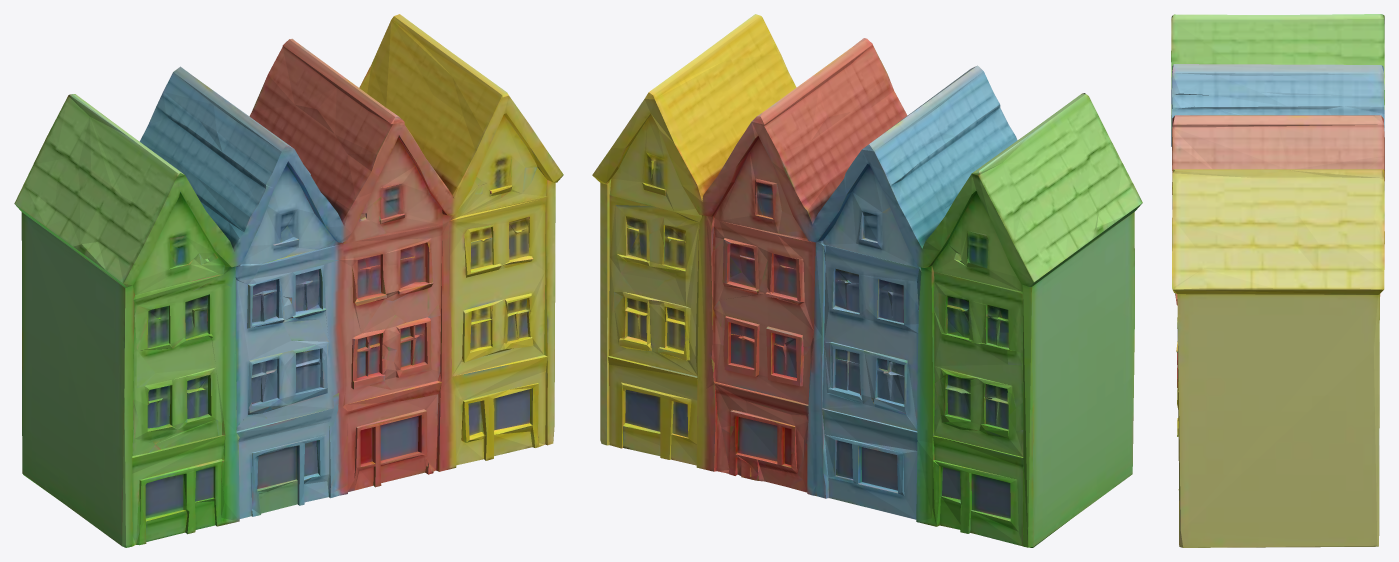
File: b-row.glb
The picture shows the model from 3 angles, left to right: view 1: azimuth 30°, elevation 25°; view 2: azimuth 150°, elevation 25°; view 3: azimuth 270°, elevation 25°; orthographic projection. The views are drawn at different scales.
Parts seen in each view (by area): view 1: geometry_0; view 2: geometry_0; view 3: geometry_0.
Part boxes in pixels (x1,y1,x2,y2): geometry_0: [14, 14, 563, 547]; geometry_0: [592, 14, 1142, 547]; geometry_0: [1171, 14, 1384, 547].
Size of the model in its own units: 1 by 0.7997 by 0.4335.
1 material, 1 textured.
